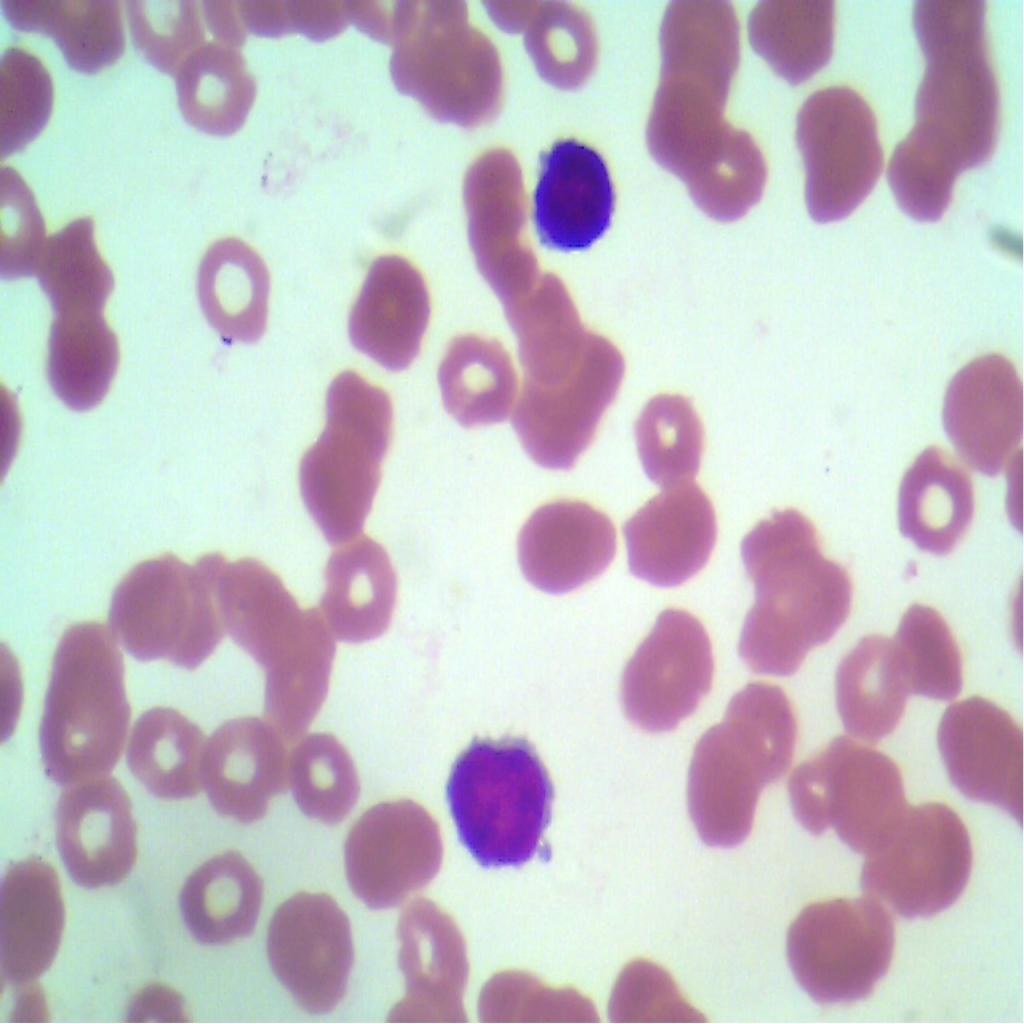Eritrosit: (504, 328, 630, 474), (775, 884, 899, 1010), (30, 627, 132, 778), (339, 234, 445, 376), (786, 82, 886, 228), (866, 798, 980, 920), (510, 484, 619, 610), (616, 594, 714, 734), (267, 885, 365, 1019), (800, 731, 908, 851), (400, 9, 506, 128), (343, 794, 448, 908), (905, 44, 1003, 164), (933, 354, 1023, 484), (927, 684, 1023, 805), (893, 456, 1000, 564), (308, 354, 398, 479), (677, 717, 759, 852), (310, 536, 407, 650), (27, 204, 127, 314), (622, 481, 720, 592), (50, 778, 148, 888), (170, 842, 272, 947), (373, 892, 474, 998), (110, 555, 210, 661), (255, 607, 339, 731), (879, 591, 967, 708), (294, 432, 382, 545), (0, 858, 77, 986), (195, 238, 279, 355), (734, 0, 842, 91), (222, 552, 308, 666), (418, 327, 510, 432), (634, 68, 728, 169), (123, 698, 213, 801), (38, 305, 127, 409), (512, 0, 613, 91), (719, 664, 798, 778), (835, 628, 912, 744), (635, 0, 747, 79), (627, 392, 713, 490), (688, 125, 772, 222), (459, 145, 532, 254), (510, 278, 585, 384), (286, 728, 364, 829), (170, 547, 242, 655), (730, 588, 810, 685), (0, 157, 66, 274), (882, 122, 954, 228), (172, 47, 259, 134), (775, 552, 855, 646), (198, 719, 276, 812), (740, 514, 815, 605), (890, 0, 989, 68), (121, 0, 207, 70), (476, 227, 546, 307)
Limfoblast: (437, 728, 563, 886), (520, 127, 622, 261)
